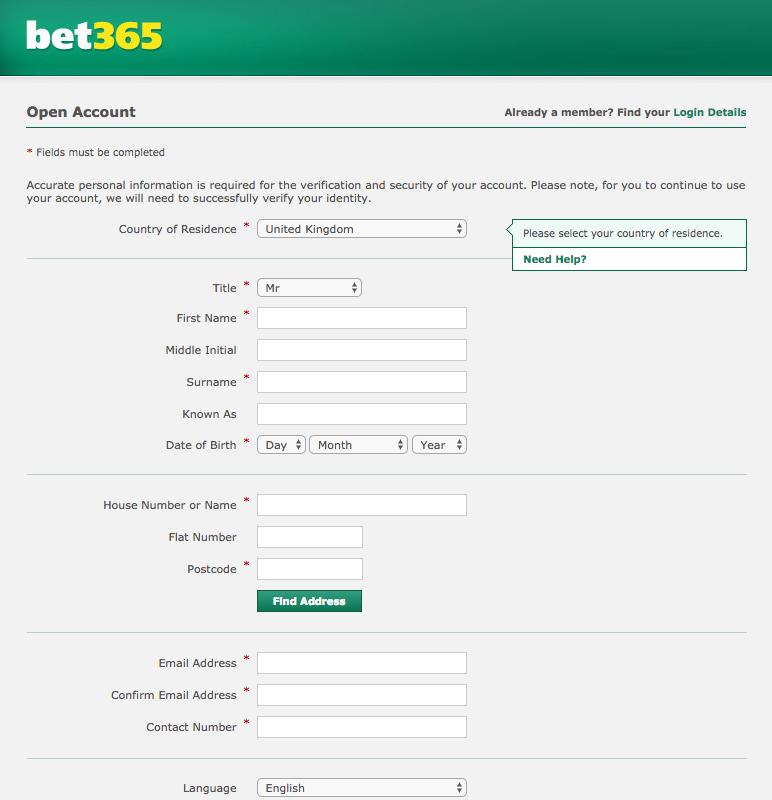button: (256, 582, 368, 620)
dropdown: (244, 772, 465, 800), (256, 218, 470, 241), (250, 273, 366, 298)
